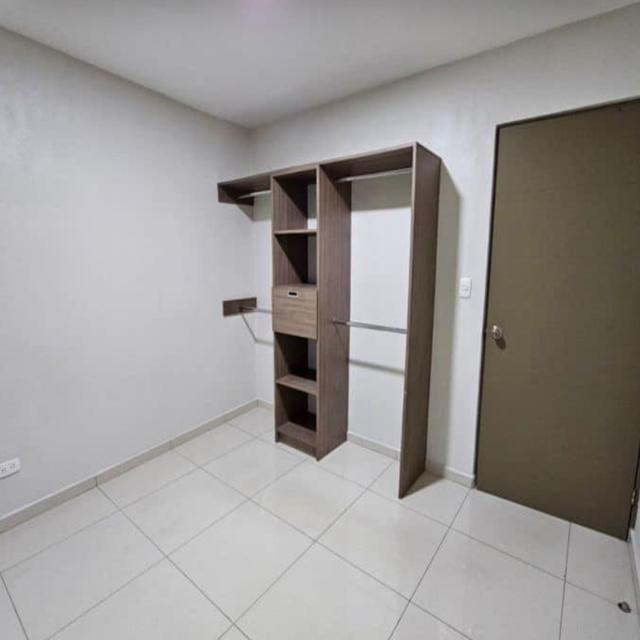ClosedDoor: (485, 93, 640, 544)
